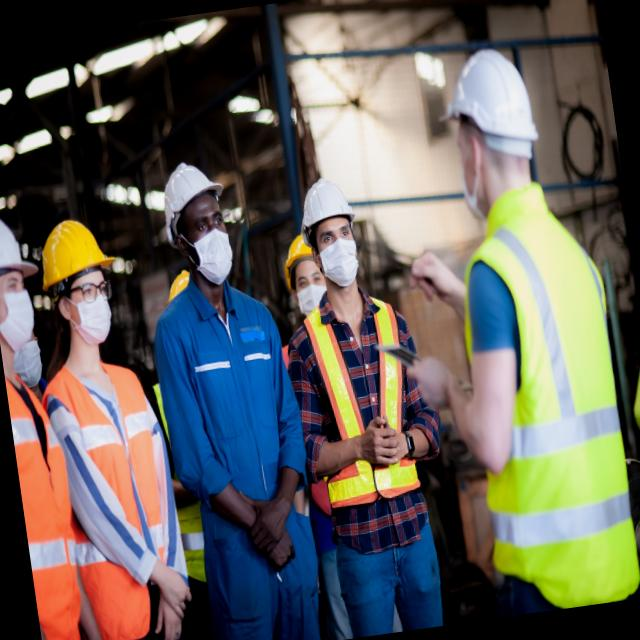helmet: (433, 38, 544, 170), (32, 208, 118, 296), (149, 156, 231, 236), (290, 172, 360, 238), (0, 196, 43, 295), (278, 227, 326, 292)
no-goggles: (179, 195, 233, 237), (312, 217, 369, 255), (67, 262, 113, 308), (0, 270, 30, 294)
no-vest: (150, 265, 327, 536)
vest: (440, 176, 640, 618), (38, 344, 195, 640), (298, 280, 426, 522), (3, 358, 90, 640)
